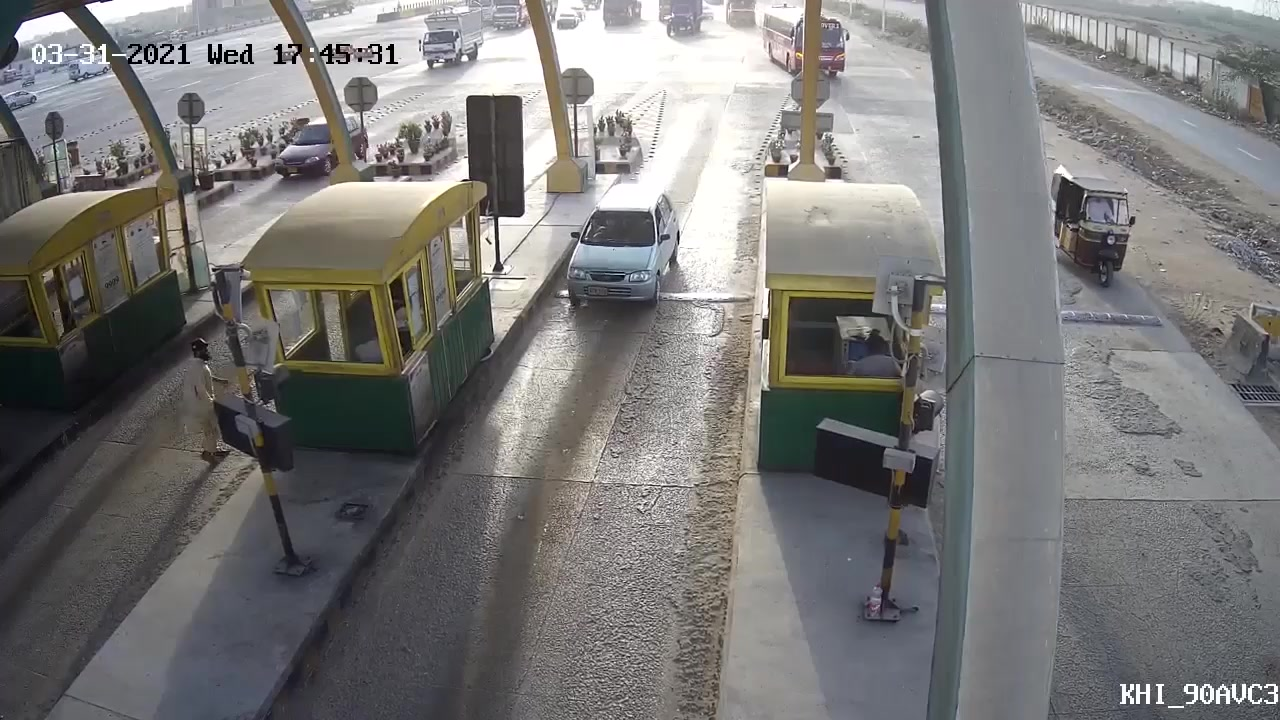F1: (559, 182, 689, 322)
